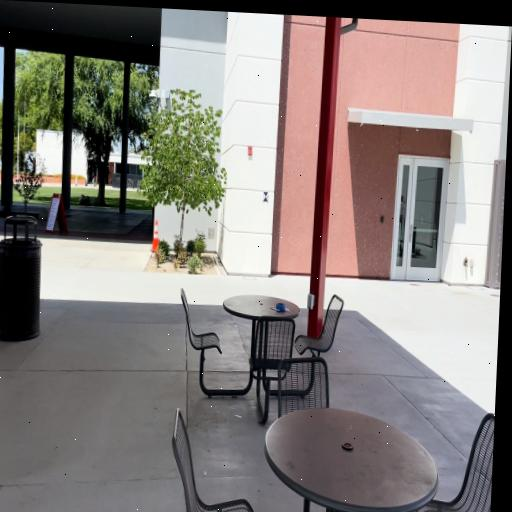target9: (263, 191, 269, 203)
